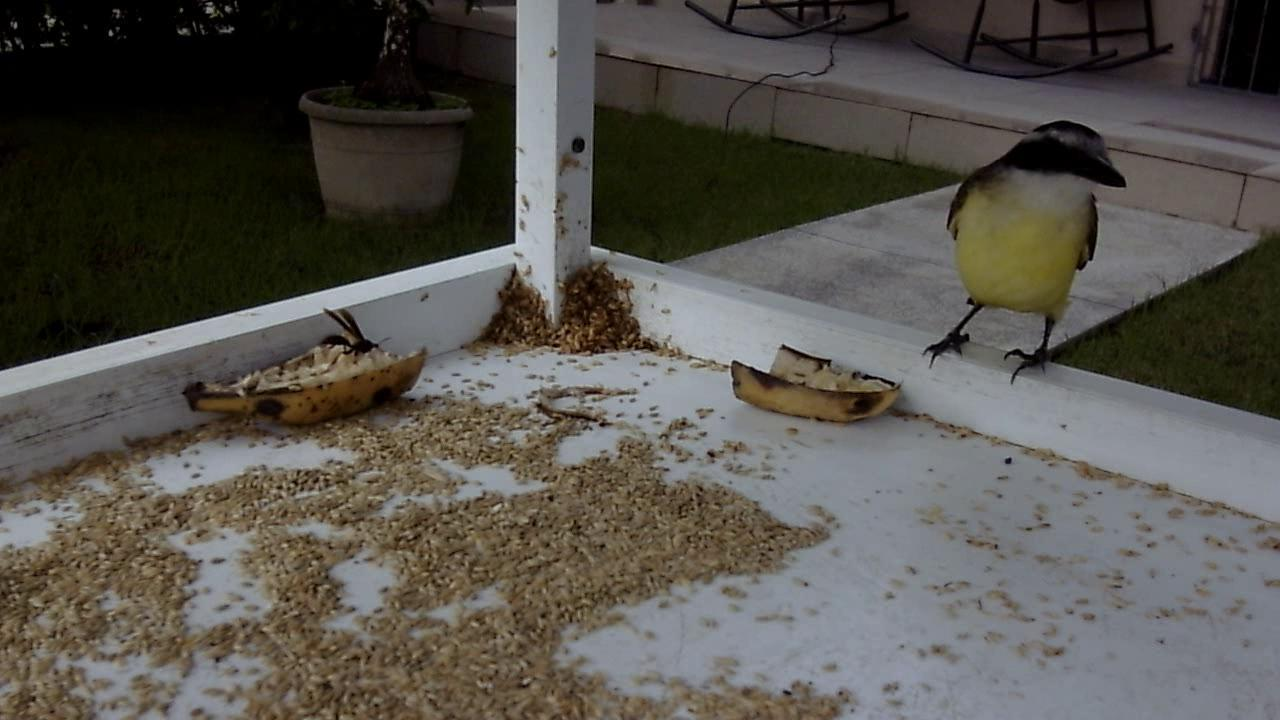bem_te_vi: (909, 107, 1130, 398)
